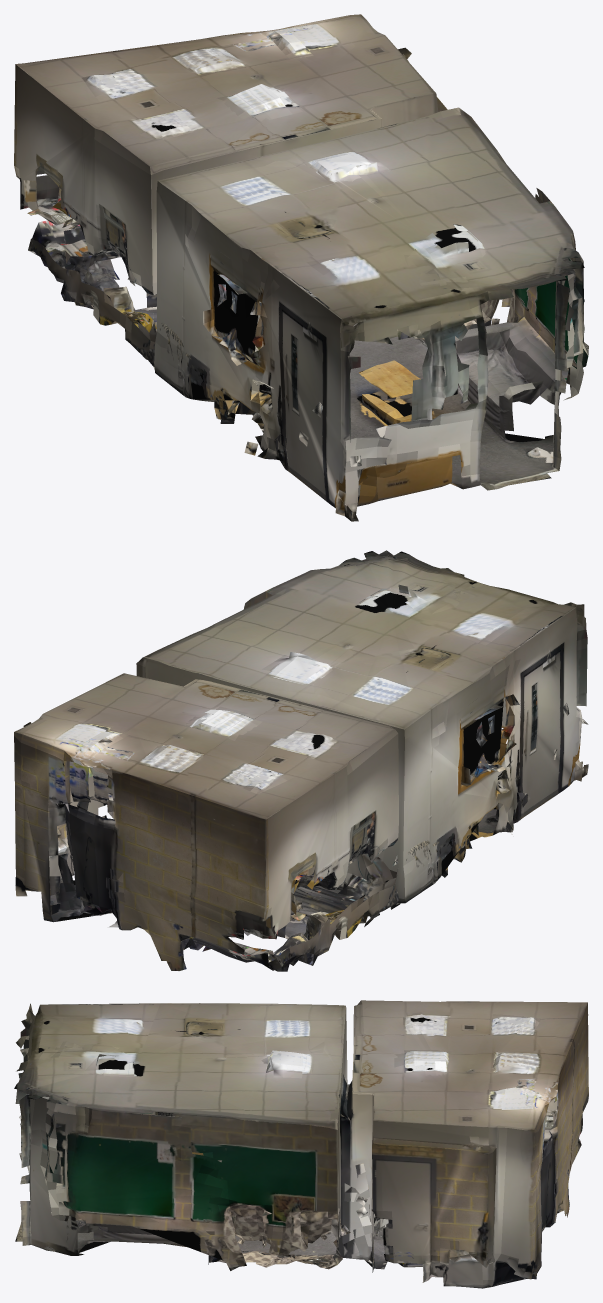
The model's file is Tv_waiting_room-IM.fbx.
The picture shows the model from 3 angles, top to bottom: view 1: azimuth 30°, elevation 25°; view 2: azimuth 150°, elevation 25°; view 3: azimuth 270°, elevation 25°; orthographic projection. The views are drawn at different scales.
Parts seen in each view (by area): view 1: Tv_waiting_room-IM; view 2: Tv_waiting_room-IM; view 3: Tv_waiting_room-IM.
Boxes of the visible parts, x1=… form: Tv_waiting_room-IM: x1=14, y1=14, x2=588, y2=521; Tv_waiting_room-IM: x1=14, y1=550, x2=588, y2=971; Tv_waiting_room-IM: x1=14, y1=1000, x2=588, y2=1288.
Bounding box in the file's own units: 457 × 274 × 787.
1 material, 1 textured.
